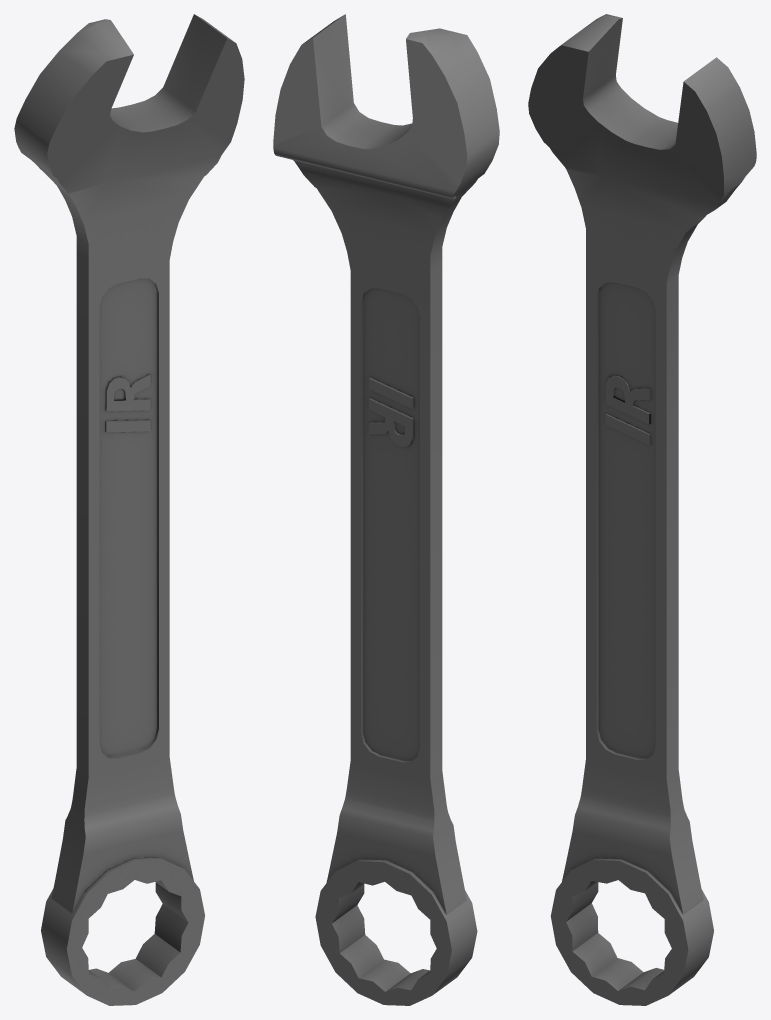
File: wrench.obj
3 renders of one model, left to right at view 1: azimuth 30°, elevation 25°; view 2: azimuth 150°, elevation 25°; view 3: azimuth 330°, elevation 25°, orthographic.
Parts seen in each view (by area): view 1: Cube_Cube.001; view 2: Cube_Cube.001; view 3: Cube_Cube.001.
Part boxes in pixels (x1,y1,x2,y2): Cube_Cube.001: (14, 14, 244, 1005); Cube_Cube.001: (273, 14, 499, 1005); Cube_Cube.001: (528, 14, 756, 1005).
Size of the model in its own units: 0.1802 by 0.8667 by 0.0801.
Materials: 1 (1 with a texture image).
